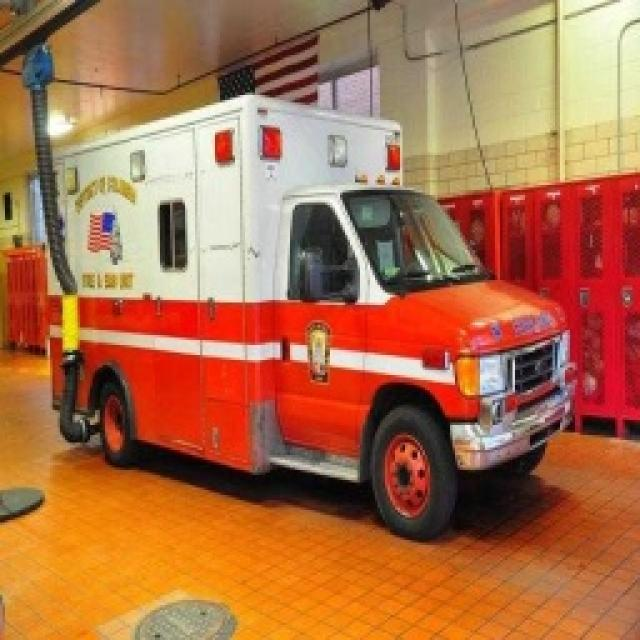emergency-vehicle: (53, 97, 592, 540)
